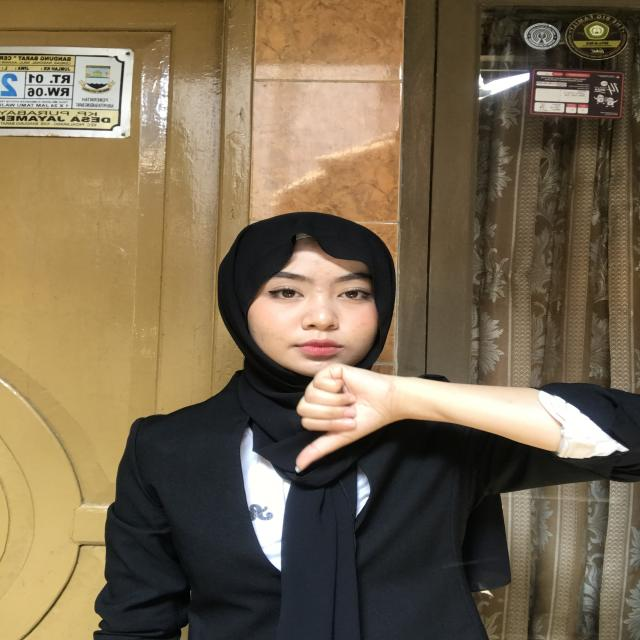sedih: (270, 330, 442, 496)
